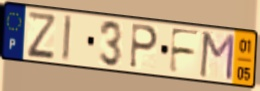3: (98, 19, 125, 68)
F: (167, 26, 202, 76)
I: (60, 13, 74, 64)
M: (197, 30, 236, 83)
P: (128, 22, 160, 71)
Z: (26, 9, 56, 59)
